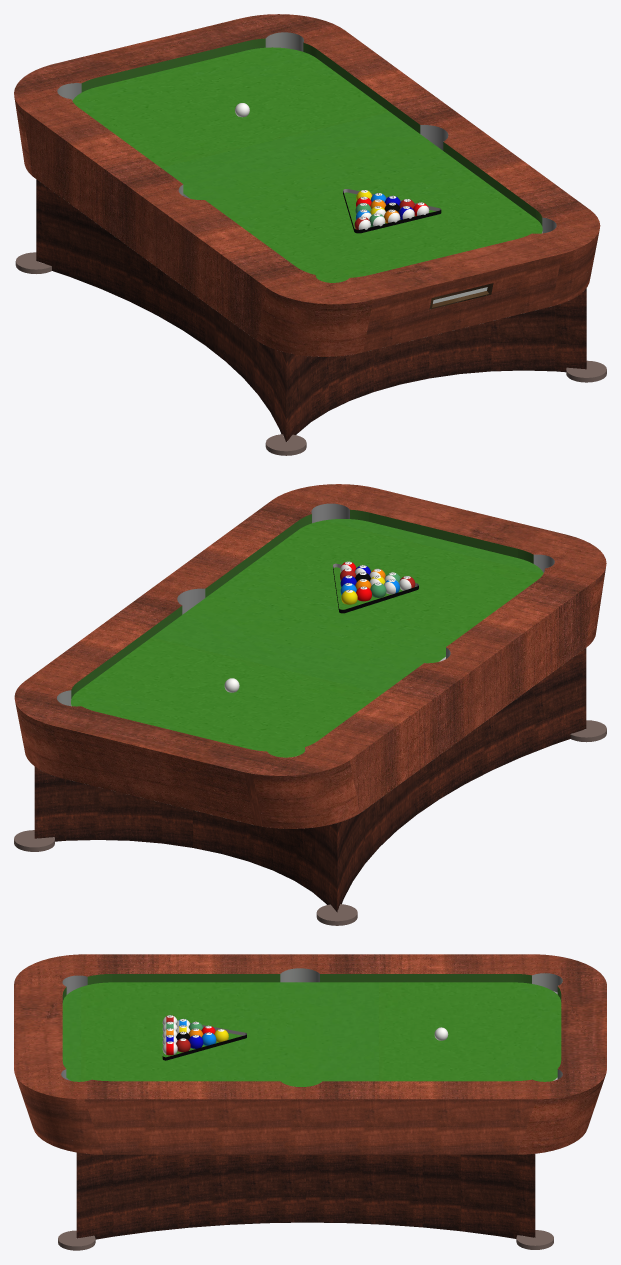
Rendered from pool.glb.
The picture shows the model from 3 angles, top to bottom: view 1: azimuth 30°, elevation 25°; view 2: azimuth 150°, elevation 25°; view 3: azimuth 270°, elevation 25°; orthographic projection. The views are drawn at different scales.
Parts seen in each view (by area): view 1: Material2 (×4), Material20; view 2: Material2 (×4), Material20; view 3: Material2 (×5), Material20, Material50, Material49, Material51, Material48, Material47, Material46, Material7, Material45, Material6.
Part boxes in pixels (left/top/right/bottom): Material2 (×4): left=15, top=14, right=606, bottom=455; Material20: left=14, top=14, right=600, bottom=352; Material2 (×4): left=14, top=484, right=606, bottom=925; Material20: left=14, top=484, right=606, bottom=825; Material2 (×5): left=58, top=954, right=563, bottom=1250; Material20: left=14, top=954, right=606, bottom=1154; Material50: left=75, top=1099, right=102, bottom=1154; Material49: left=518, top=1099, right=545, bottom=1154; Material51: left=66, top=1098, right=93, bottom=1154; Material48: left=527, top=1098, right=554, bottom=1154; Material47: left=57, top=1097, right=84, bottom=1153; Material46: left=49, top=1095, right=75, bottom=1152; Material7: left=545, top=1095, right=571, bottom=1152; Material45: left=41, top=1093, right=67, bottom=1150; Material6: left=553, top=1093, right=579, bottom=1150.
Bounding box in the file's own units: 30.04 × 13.77 × 49.65.
54 materials, 54 textured.
